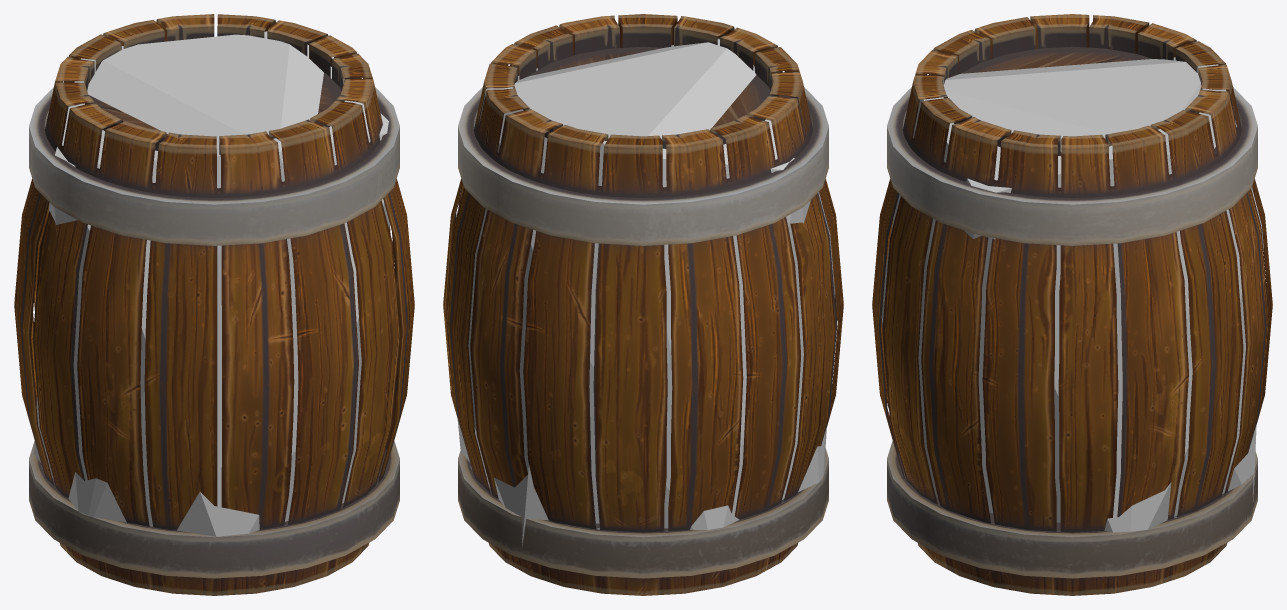
Rendered from SM_Barrel.fbx.
3 renders of one model, left to right at view 1: azimuth 30°, elevation 25°; view 2: azimuth 150°, elevation 25°; view 3: azimuth 270°, elevation 25°, orthographic.
Visible parts, largest first — view 1: SM_Barrel, SM_Barrel_ConvexHulls; view 2: SM_Barrel, SM_Barrel_ConvexHulls; view 3: SM_Barrel, SM_Barrel_ConvexHulls.
Part boxes in pixels (bbox=[...]): SM_Barrel: bbox=[14, 14, 414, 595]; SM_Barrel_ConvexHulls: bbox=[33, 31, 389, 536]; SM_Barrel: bbox=[443, 14, 843, 595]; SM_Barrel_ConvexHulls: bbox=[457, 38, 834, 549]; SM_Barrel: bbox=[872, 14, 1272, 595]; SM_Barrel_ConvexHulls: bbox=[881, 57, 1263, 532].
Bounding box in the file's own units: 74.17 × 74.17 × 91.35.
Materials: 2 (1 with a texture image).
